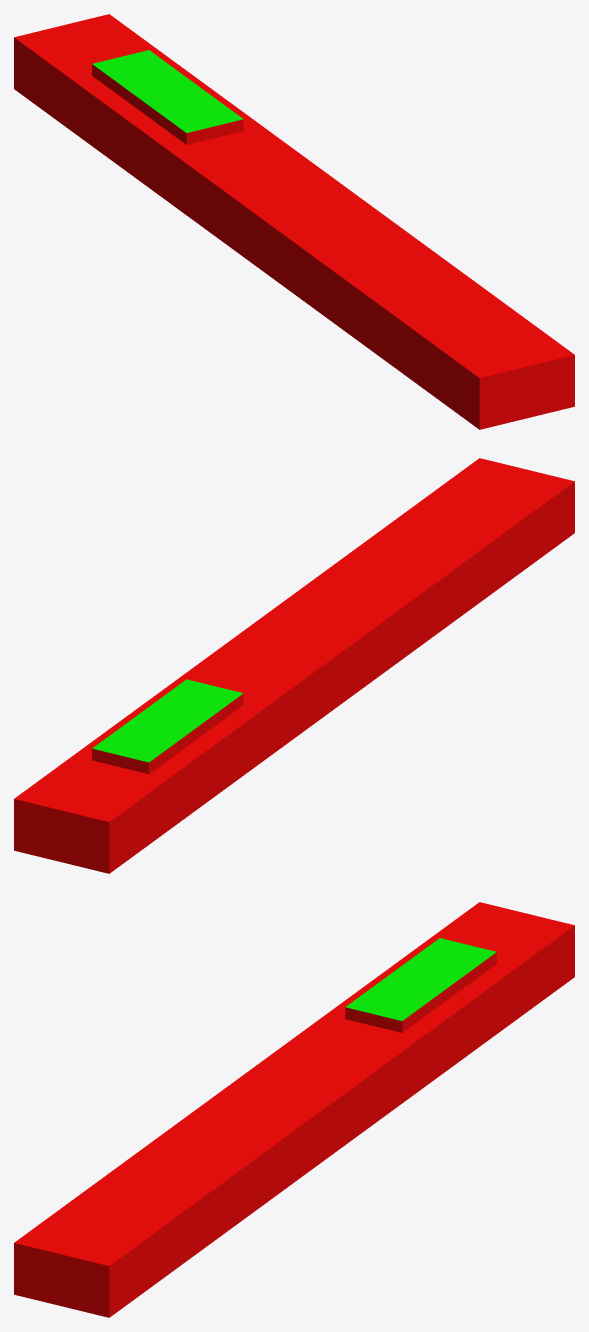
File: labeled.obj
3 renders of one model, top to bottom at view 1: azimuth 30°, elevation 25°; view 2: azimuth 150°, elevation 25°; view 3: azimuth 330°, elevation 25°, orthographic.
Bounding box in the file's own units: 0.0182 × 0.0116 × 0.1539.
